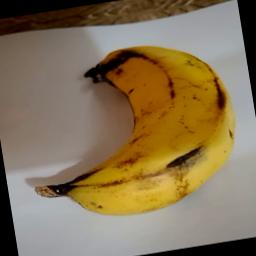Banana Unripe: (16, 28, 250, 232)
